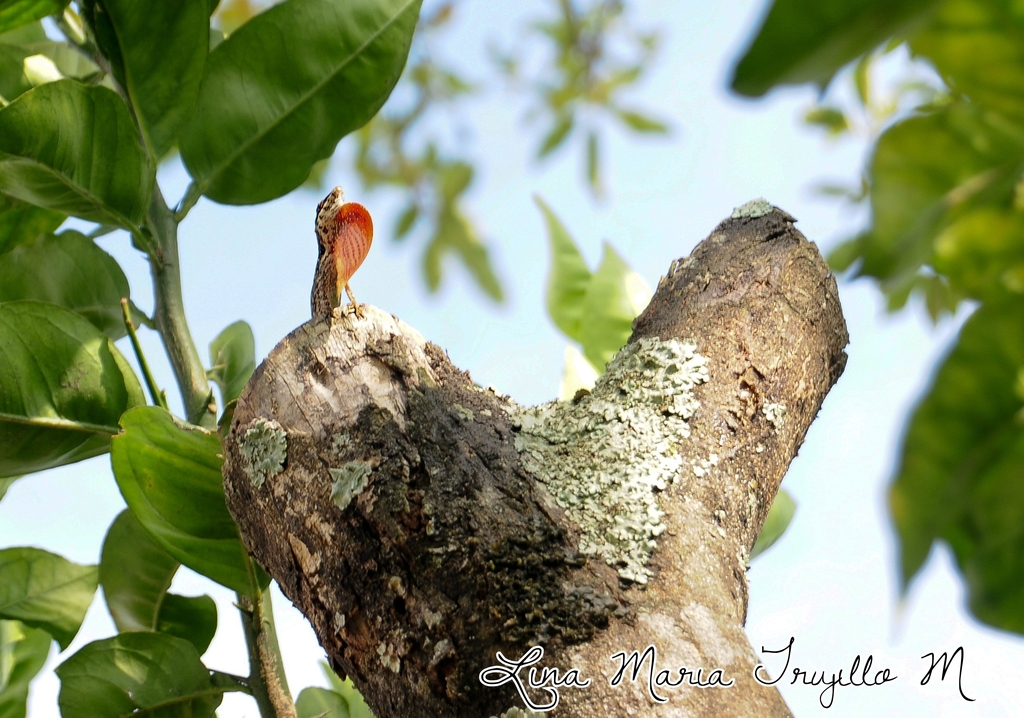Tree: (220, 197, 849, 717)
